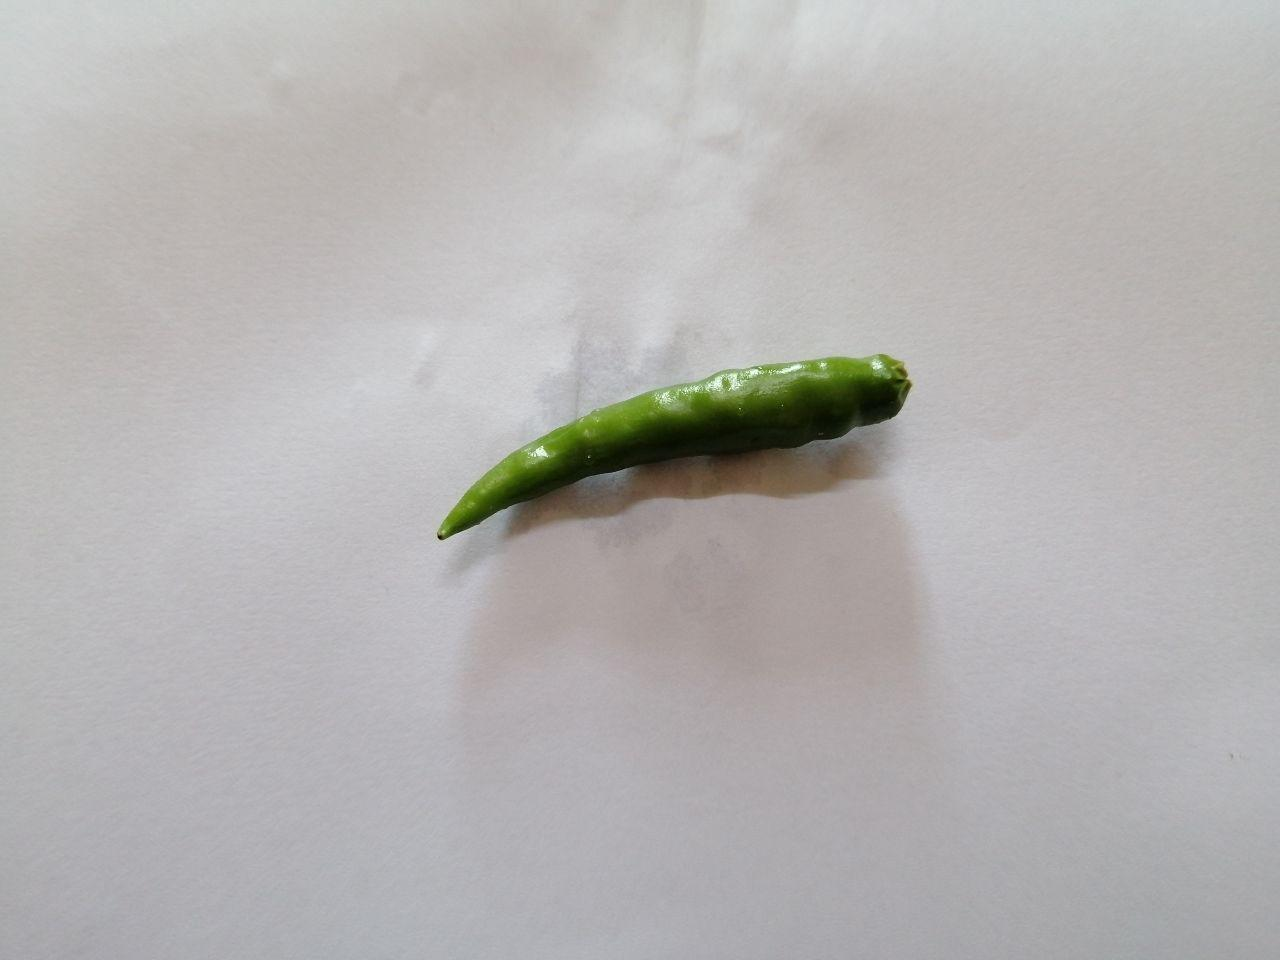lada hijau: (413, 328, 940, 567)
